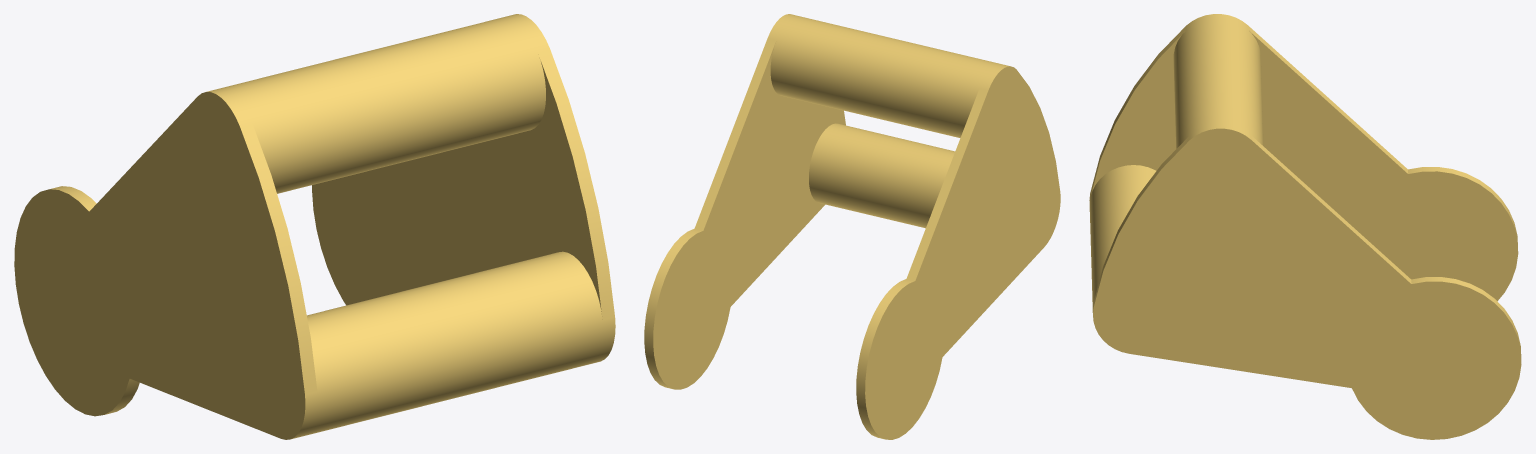
The picture shows the model from 3 angles, left to right: view 1: azimuth 30°, elevation 25°; view 2: azimuth 150°, elevation 25°; view 3: azimuth 270°, elevation 25°; orthographic projection. The views are drawn at different scales.
Visible parts, largest first — view 1: Hood; view 2: Hood; view 3: Hood.
Part boxes in pixels (x1=…): Hood: x1=14, y1=14, x2=615, y2=439; Hood: x1=644, y1=14, x2=1060, y2=439; Hood: x1=1089, y1=14, x2=1521, y2=439.
Size of the model in its own units: 0.1606 by 0.2 by 0.2507.
